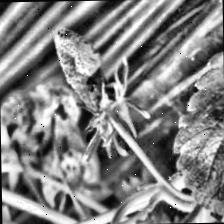Gray Mold: (52, 25, 152, 163)
